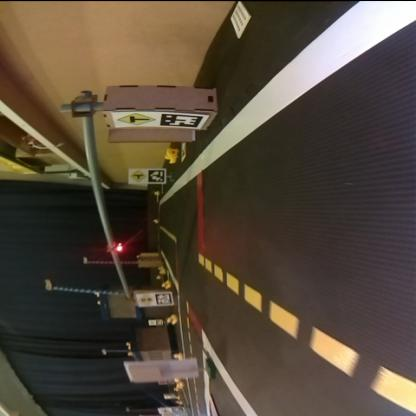Duckie: (164, 148, 178, 163), (166, 314, 178, 325), (160, 280, 170, 288), (172, 353, 182, 359), (158, 268, 166, 274), (152, 218, 158, 224), (178, 382, 184, 388), (154, 190, 160, 195)
Intersection sign: (119, 113, 156, 126), (130, 170, 146, 182)
QR code: (158, 114, 202, 128), (155, 293, 171, 305), (150, 169, 164, 182), (178, 143, 186, 162)
Signal sign: (136, 294, 152, 306)
Traffic light: (110, 243, 124, 252)
